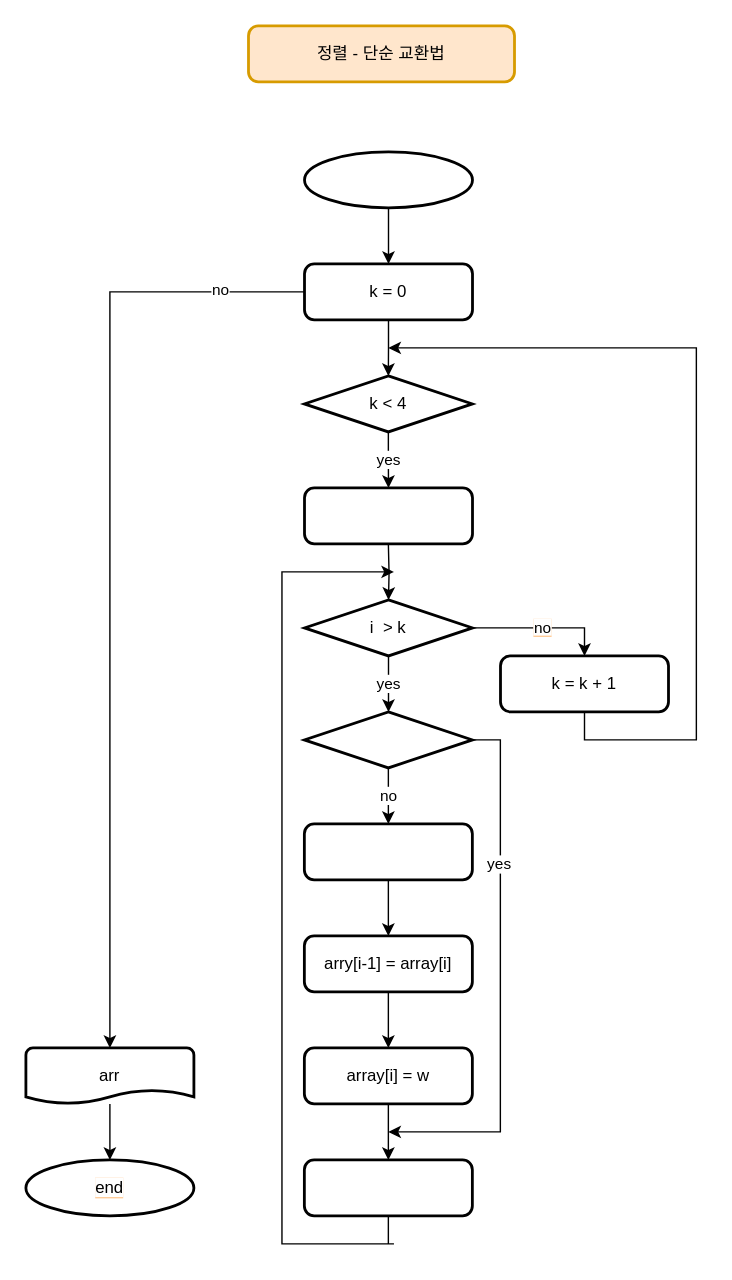
This 732x1280 diagram has some shape labels left out. The shapes that lost their labels are listed below. From the top down, each one's box as (x1, y1, x2, y2) in pixels, then its label:
(302, 150, 473, 209): start
(302, 486, 473, 545): i = 4
(302, 710, 473, 769): arr[i-1] < arr[i]
(302, 822, 473, 881): w = array[i-1]
(302, 1158, 473, 1217): i = i - 1
